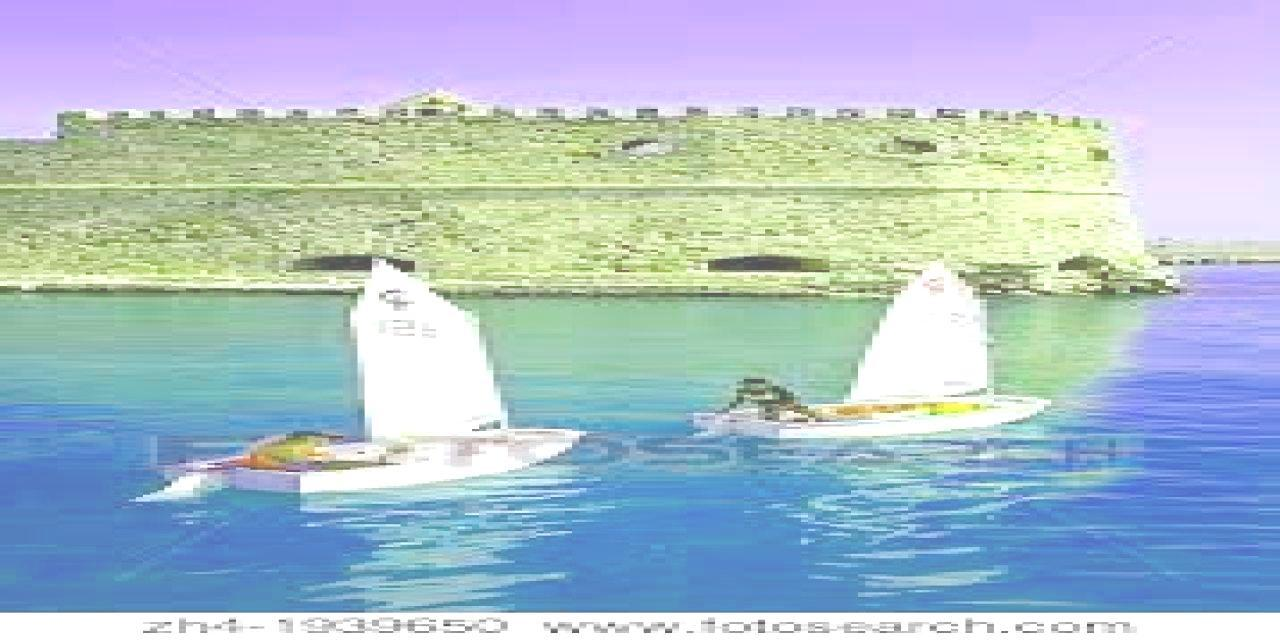Kules: (1, 85, 1194, 295)
